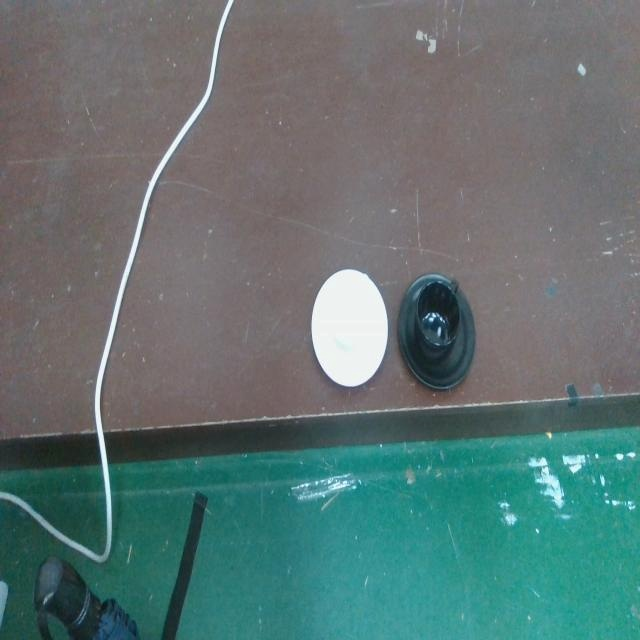black: (394, 268, 478, 394)
white: (309, 265, 390, 394)
